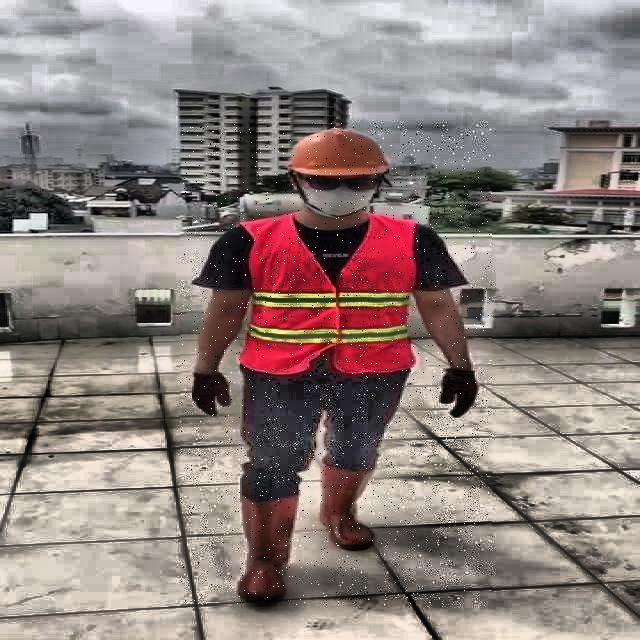safety_helmet: (279, 125, 392, 178)
safety_jacket: (242, 218, 412, 376)
